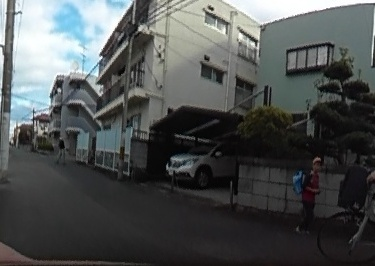person: (294, 154, 324, 231), (55, 137, 68, 165)
